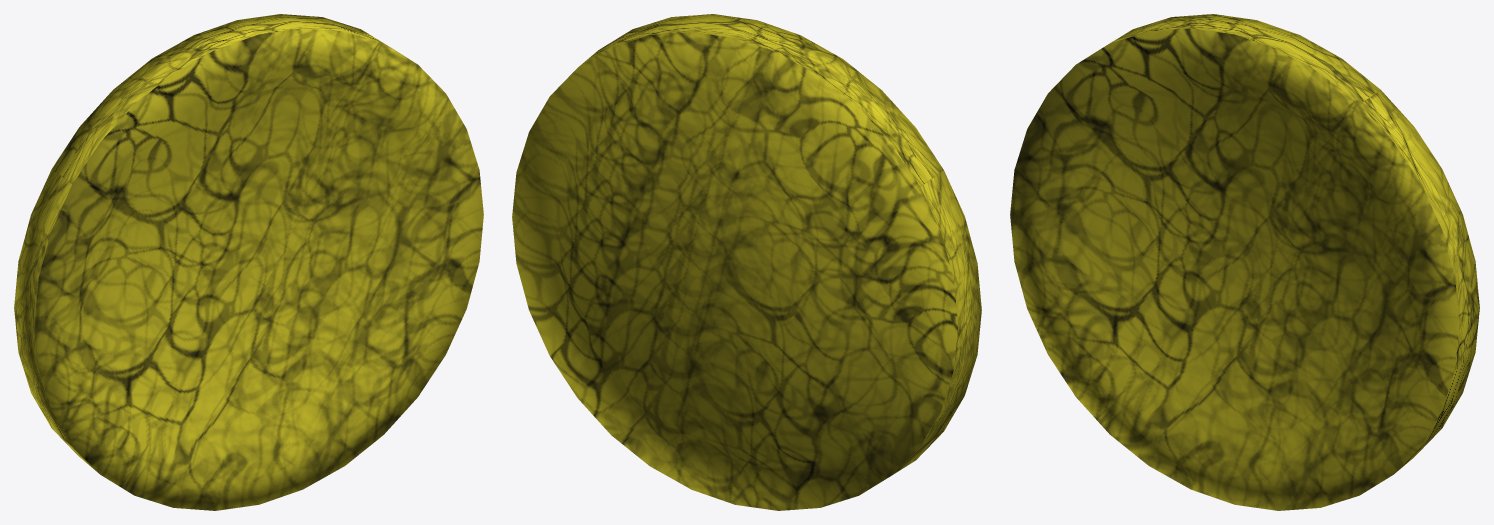
File: Currency1.glb
3 views of the same model, side by side, from view 1: azimuth 30°, elevation 25°; view 2: azimuth 150°, elevation 25°; view 3: azimuth 330°, elevation 25° (orthographic).
Parts seen in each view (by area): view 1: Currency2; view 2: Currency2; view 3: Currency2.
Part boxes in pixels (x1,y1,x2,y2): Currency2: (14, 14, 483, 510); Currency2: (512, 14, 981, 510); Currency2: (1010, 14, 1479, 510).
Size of the model in its own units: 0.2359 by 0.2359 by 0.0249.
Materials: 1 (1 with a texture image).
